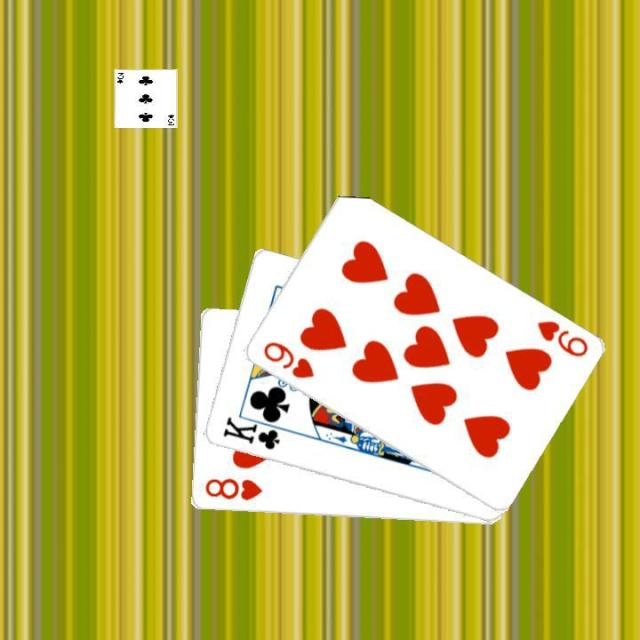8H: (201, 475, 264, 502)
9H: (258, 338, 316, 381), (532, 317, 590, 359)
KC: (218, 410, 290, 452)
